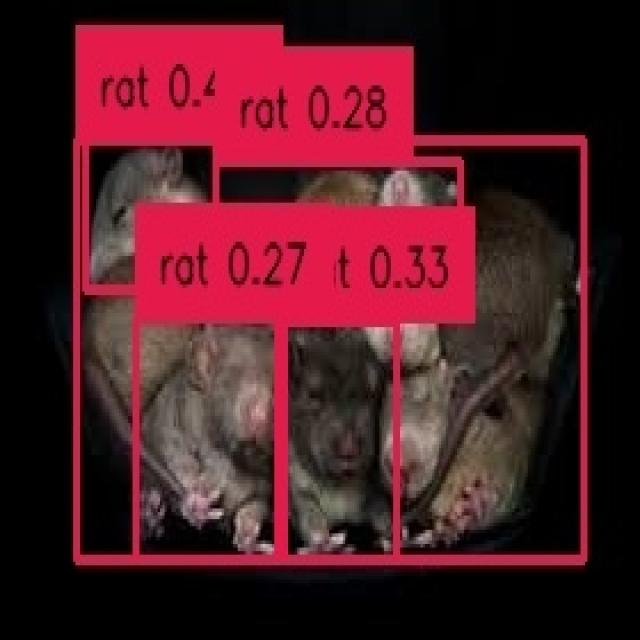rat: (73, 135, 581, 555), (133, 313, 281, 555), (213, 156, 457, 288), (274, 316, 393, 554), (82, 135, 213, 285)
